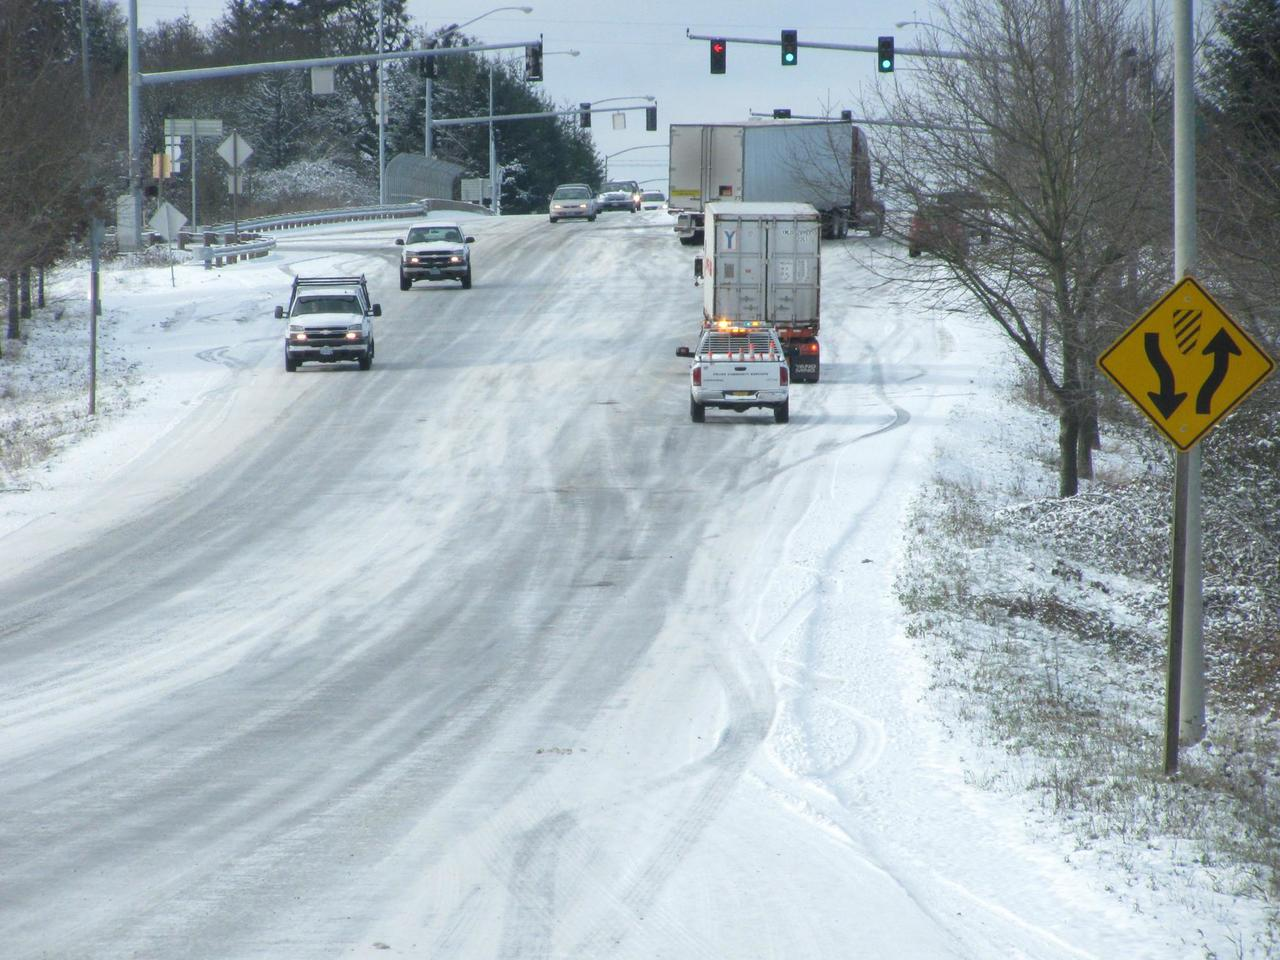car: (282, 269, 379, 371), (687, 320, 783, 419), (398, 227, 475, 290), (908, 197, 967, 263), (549, 184, 596, 221), (597, 179, 634, 212), (638, 187, 666, 218)
truck: (690, 201, 825, 401), (667, 117, 878, 241)
